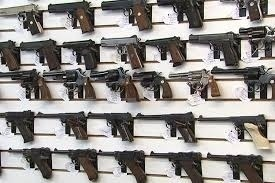pistol: (199, 110, 271, 146), (204, 150, 265, 182), (185, 29, 243, 62), (89, 110, 136, 149), (139, 112, 197, 140), (147, 152, 200, 181), (44, 71, 95, 101), (56, 145, 101, 178), (1, 3, 46, 36), (168, 68, 215, 97), (60, 38, 103, 62)
